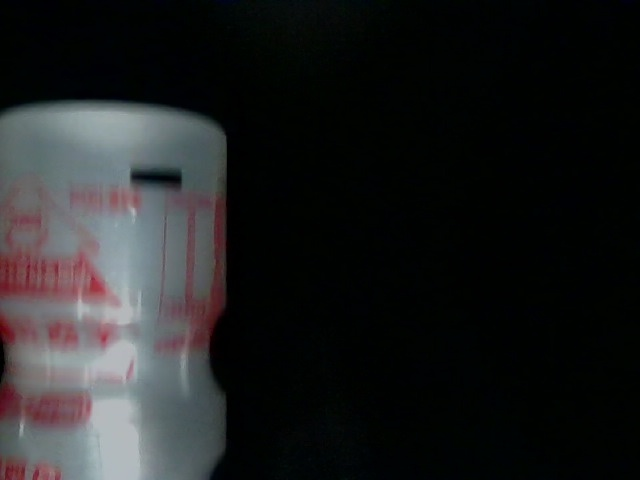CYLJ: (375, 5, 479, 87)
